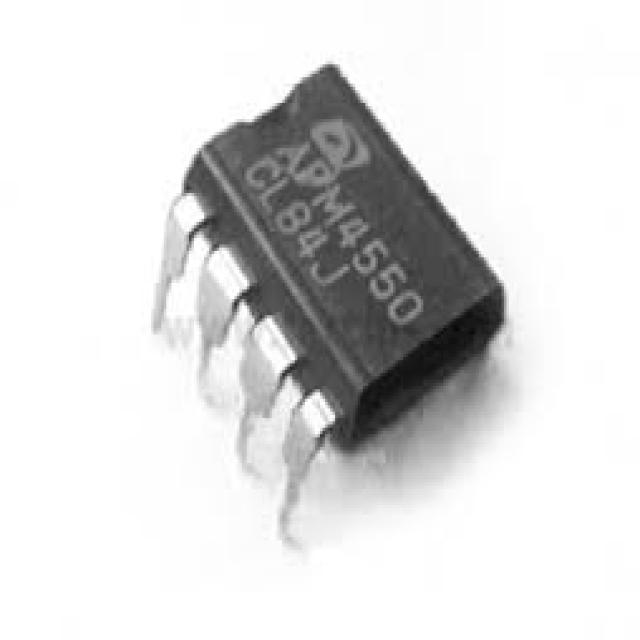IC: (147, 54, 512, 540)
